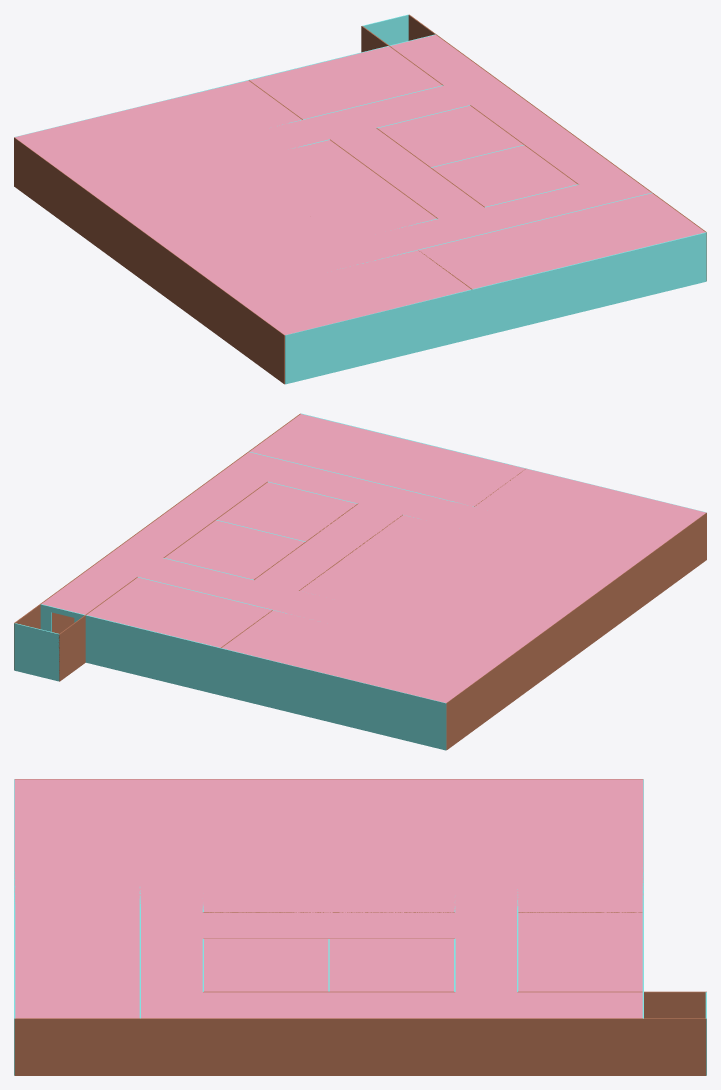
The model's file is Floor2.fbx.
3 views of the same model, one above another, from view 1: azimuth 30°, elevation 25°; view 2: azimuth 150°, elevation 25°; view 3: azimuth 270°, elevation 25° (orthographic). The views are drawn at different scales.
Parts seen in each view (by area): view 1: Ceiling201, Wall204, Wall202, Wall201, Wall220; view 2: Ceiling201, Wall203, Wall202, Wall220, Wall214, Wall201; view 3: Ceiling201, Wall201, Wall214, Wall202, Box013.
Boxes of the visible parts, x1,y1,x2,y2 form: Ceiling201: (15, 35, 704, 334); Wall204: (285, 232, 706, 384); Wall202: (14, 137, 284, 384); Wall201: (408, 14, 706, 280); Wall220: (362, 14, 408, 45); Ceiling201: (42, 414, 705, 702); Wall203: (40, 604, 446, 750); Wall202: (446, 512, 706, 750); Wall220: (14, 623, 59, 681); Wall214: (58, 577, 137, 681); Wall201: (14, 413, 300, 669); Ceiling201: (14, 779, 643, 1018); Wall201: (14, 1018, 706, 1075); Wall214: (517, 991, 706, 1018); Wall202: (15, 779, 642, 779); Box013: (203, 991, 454, 992).
Size of the model in its own units: 4060 by 450 by 4960.
